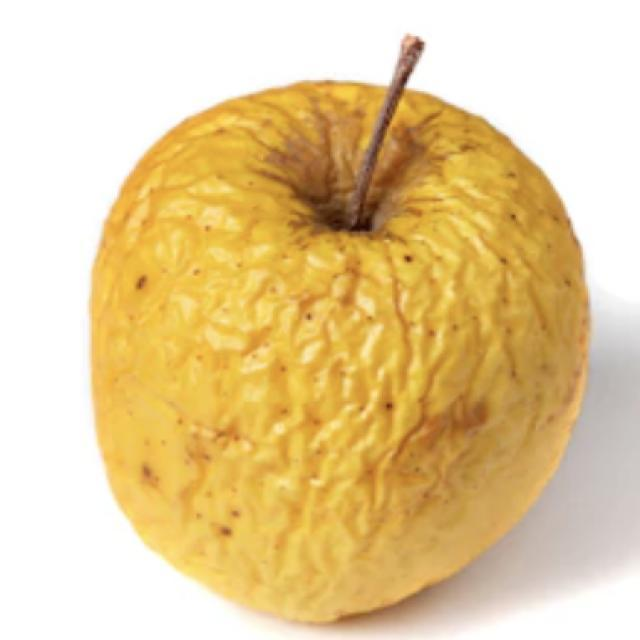Rotten: (95, 71, 598, 627)
